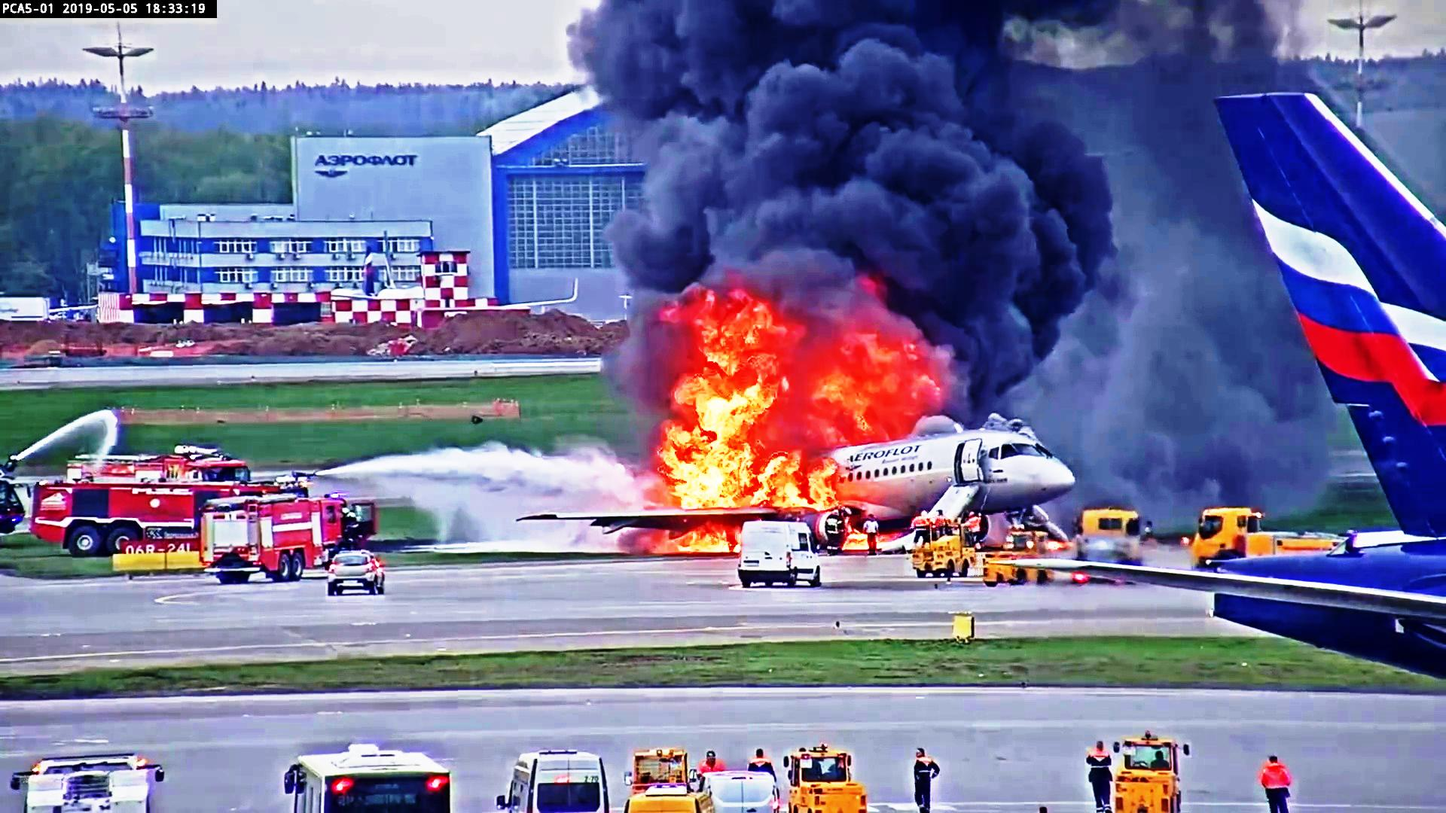fire: (659, 303, 764, 503), (825, 332, 910, 449), (749, 458, 842, 507)
smoke: (647, 0, 1017, 290)
